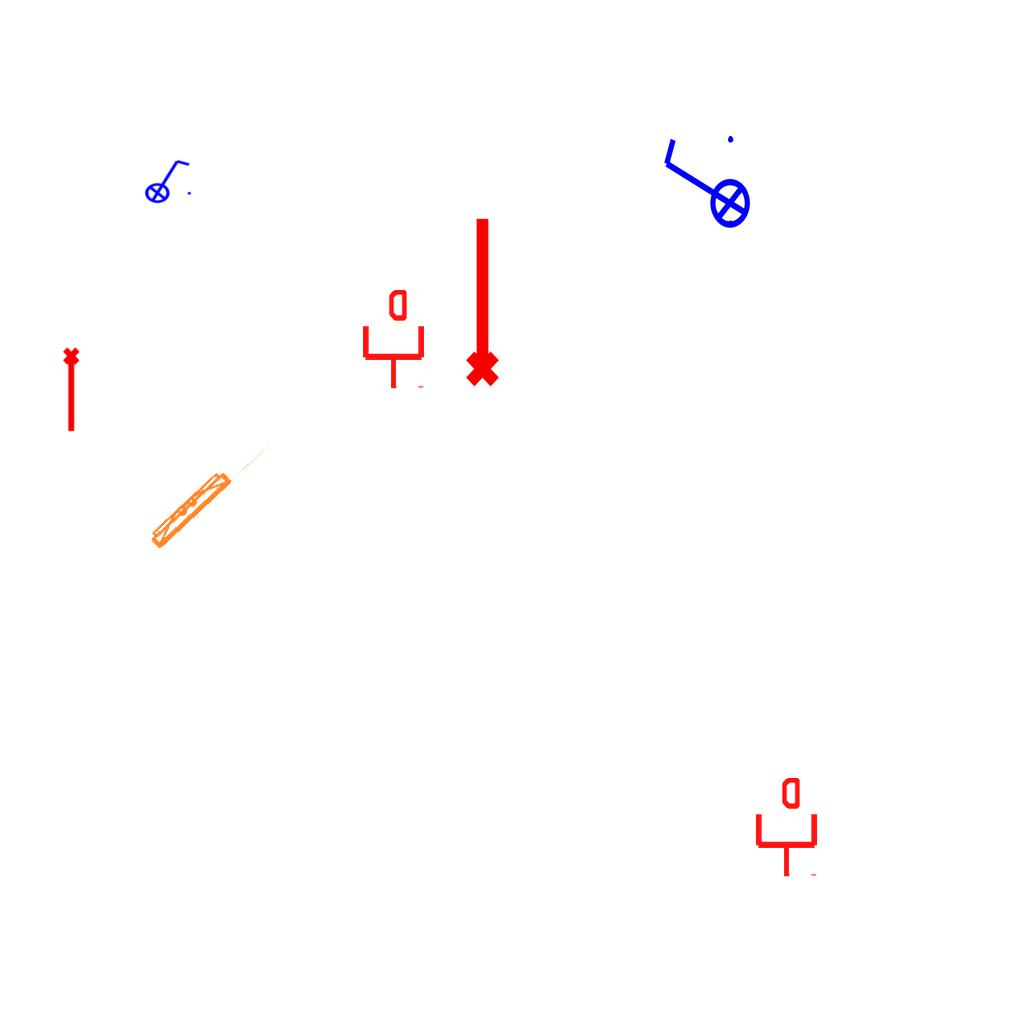ASR_Ansaugoeffnung: (457, 213, 503, 389), (61, 346, 84, 434)
Ausschalter_beleuchtet: (656, 130, 752, 242), (138, 156, 194, 204)
Datenanschluss_einfach: (752, 778, 821, 878), (359, 290, 428, 390)
Sicherheitsleuchte_Wandeinbau: (140, 428, 275, 555)
